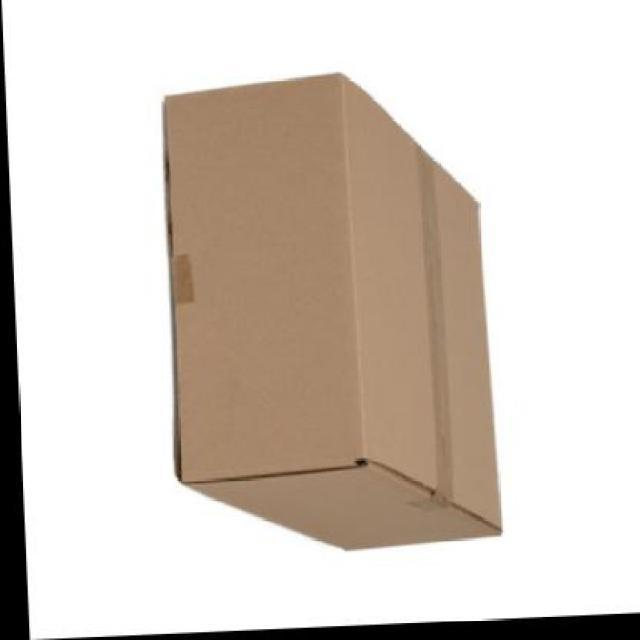box: (158, 68, 498, 560)
